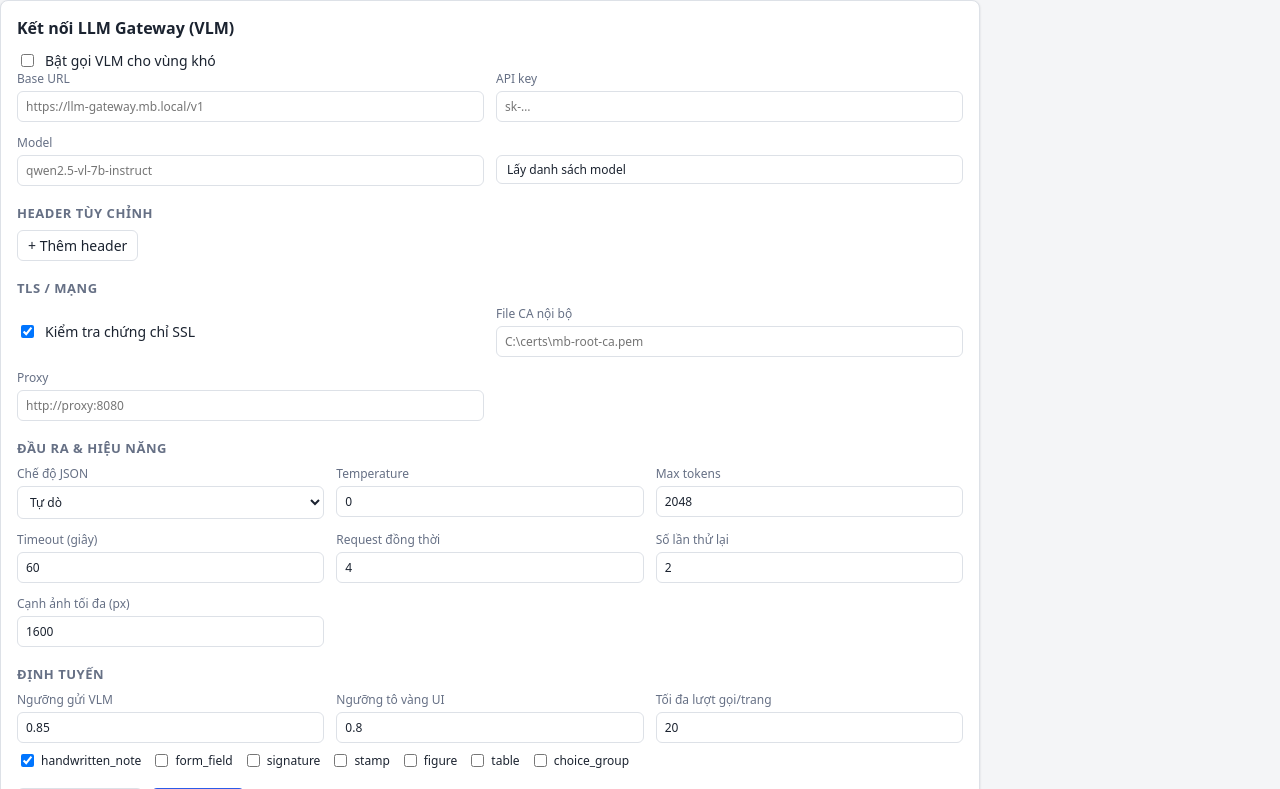
it: SettingsPage › tests the unsaved form and shows every step with hints
Step 1. Type "https://llm-gw.mb.local/v1" into the field labelled "Base URL" → (250, 106), box [17,91,484,122]
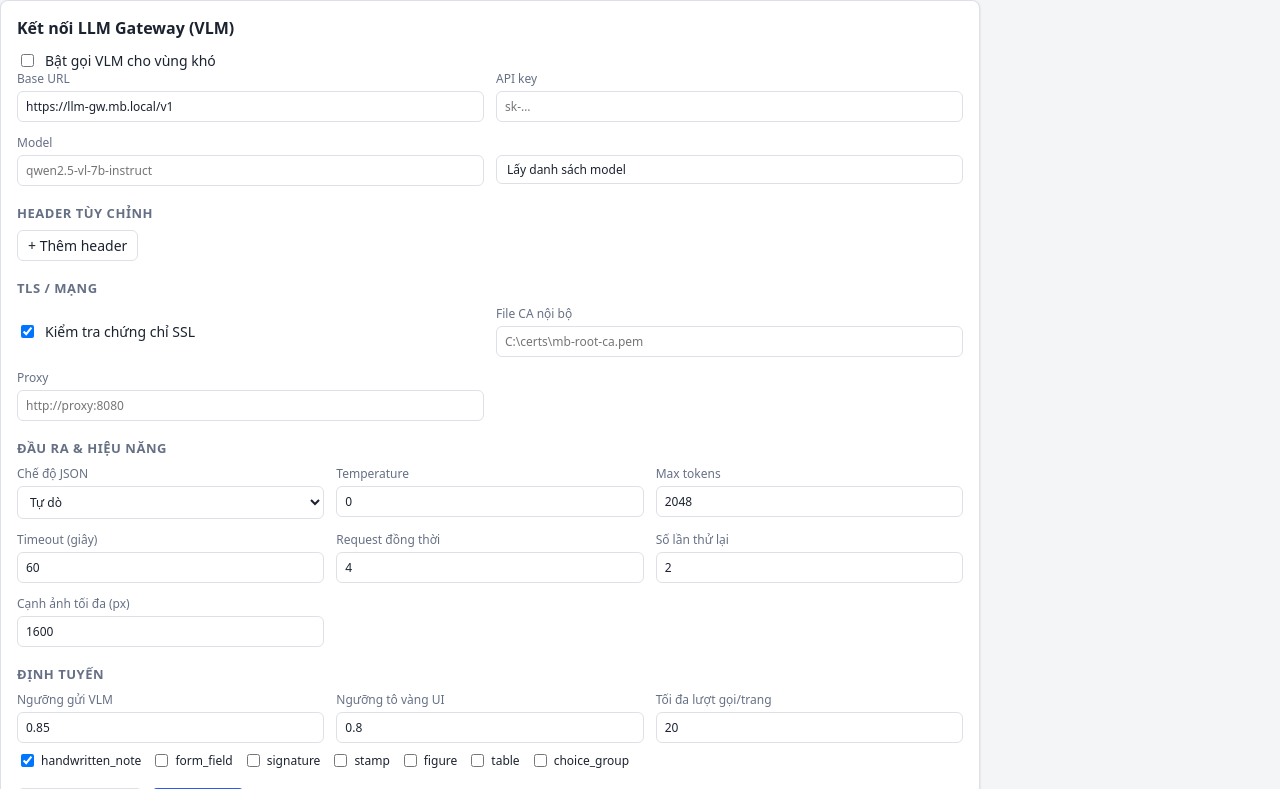
Step 2. Type "sk-new" into the password field labelled "API key" → (730, 106), box [496,91,963,122]
(page scrolled)
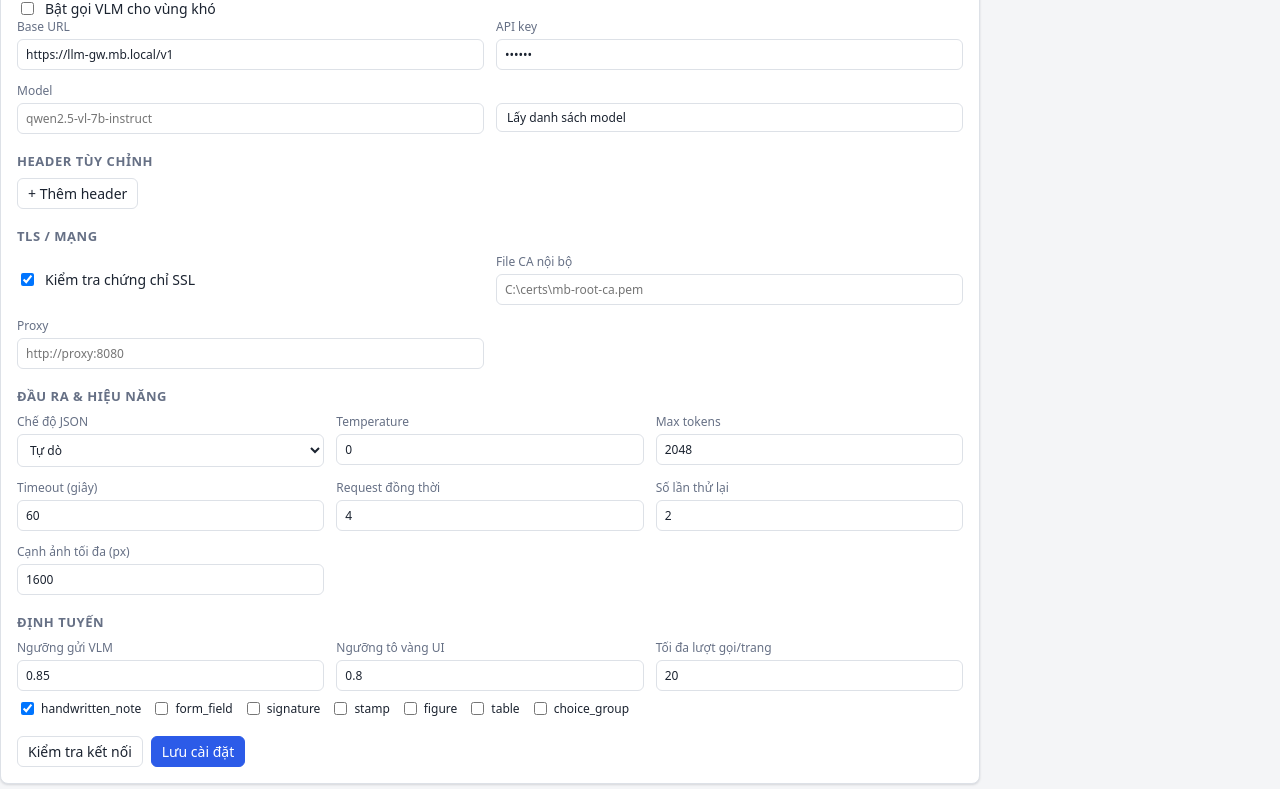
Step 3. Click the button "Kiểm tra kết nối" → (80, 752), box [17,736,143,767]
(page scrolled)
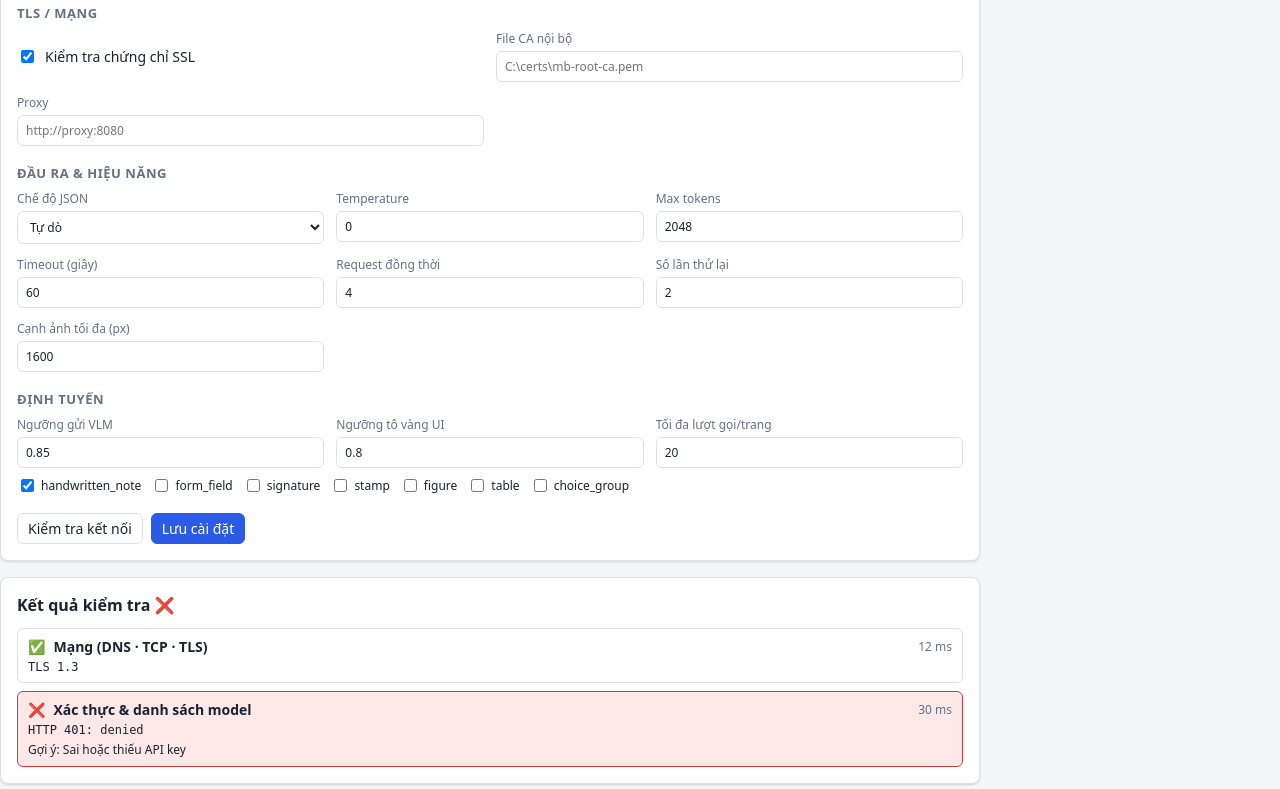
Now the text "HTTP 401: denied" is shown, box [28,723,144,737]
Now the text "Gợi ý: Sai hoặc thiếu API key" is shown, box [28,741,186,758]
